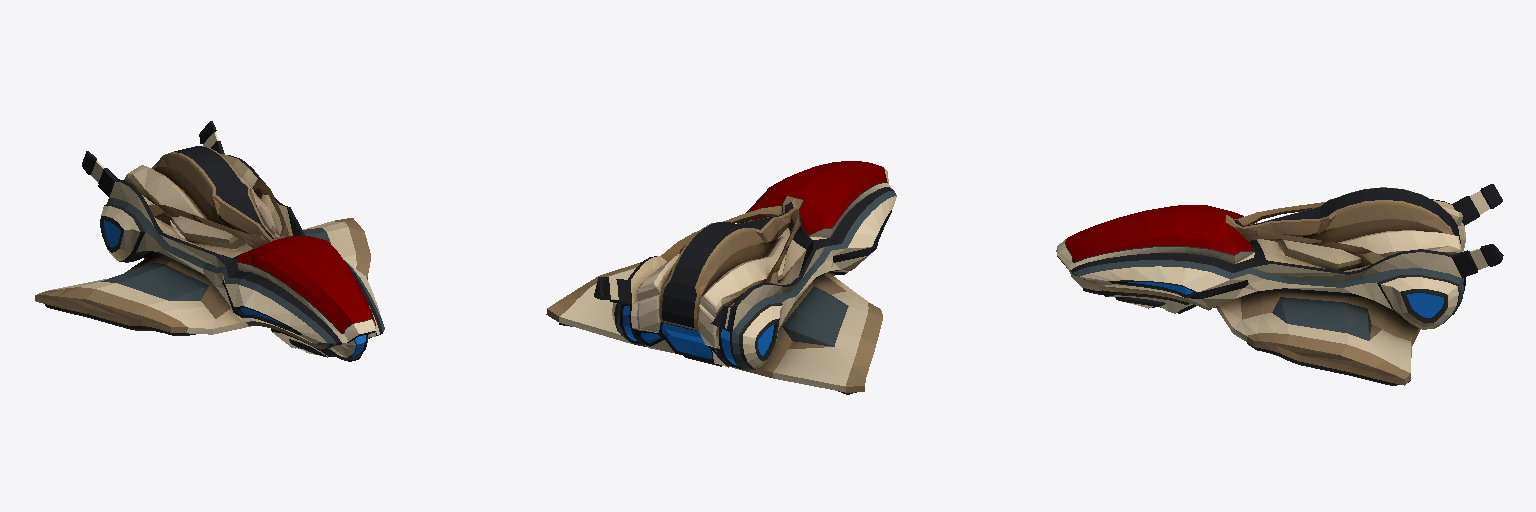
3 views of the same model, side by side, from view 1: azimuth 30°, elevation 25°; view 2: azimuth 150°, elevation 25°; view 3: azimuth 270°, elevation 25° (orthographic).
Visible parts, largest first — view 1: Paradise_bird.obj; view 2: Paradise_bird.obj; view 3: Paradise_bird.obj.
Part boxes in pixels (x1,y1,x2,y2): Paradise_bird.obj: (35, 121, 384, 361); Paradise_bird.obj: (546, 161, 896, 394); Paradise_bird.obj: (1056, 184, 1503, 385).
Size of the model in its own units: 14.1 by 5.28 by 17.13.
Materials: 7 (7 with a texture image).